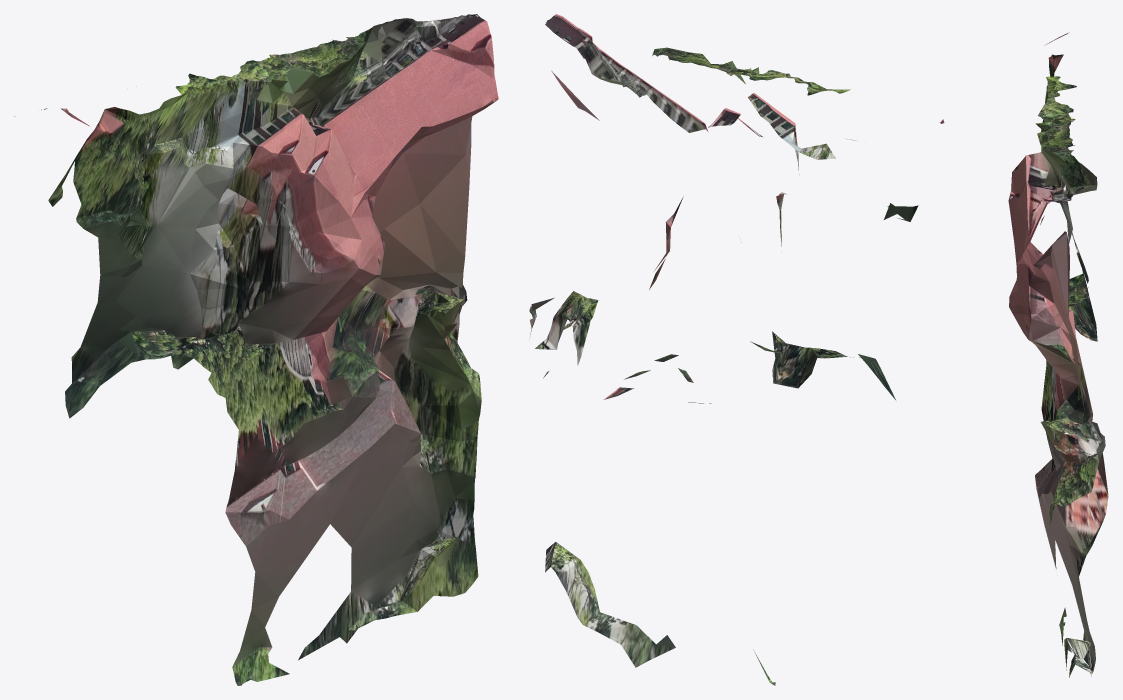
The model's file is Tile_+001_+000.glb.
The picture shows the model from 3 angles, left to right: view 1: azimuth 30°, elevation 25°; view 2: azimuth 150°, elevation 25°; view 3: azimuth 270°, elevation 25°; orthographic projection. The views are drawn at different scales.
Parts seen in each view (by area): view 1: Node; view 2: Node; view 3: Node.
Boxes of the visible parts, x1=… form: Node: x1=14, y1=14, x2=498, y2=685; Node: x1=529, y1=14, x2=944, y2=685; Node: x1=1008, y1=32, x2=1108, y2=677.
Bounding box in the file's own units: 117 × 153 × 26.58.
1 material, 1 textured.
